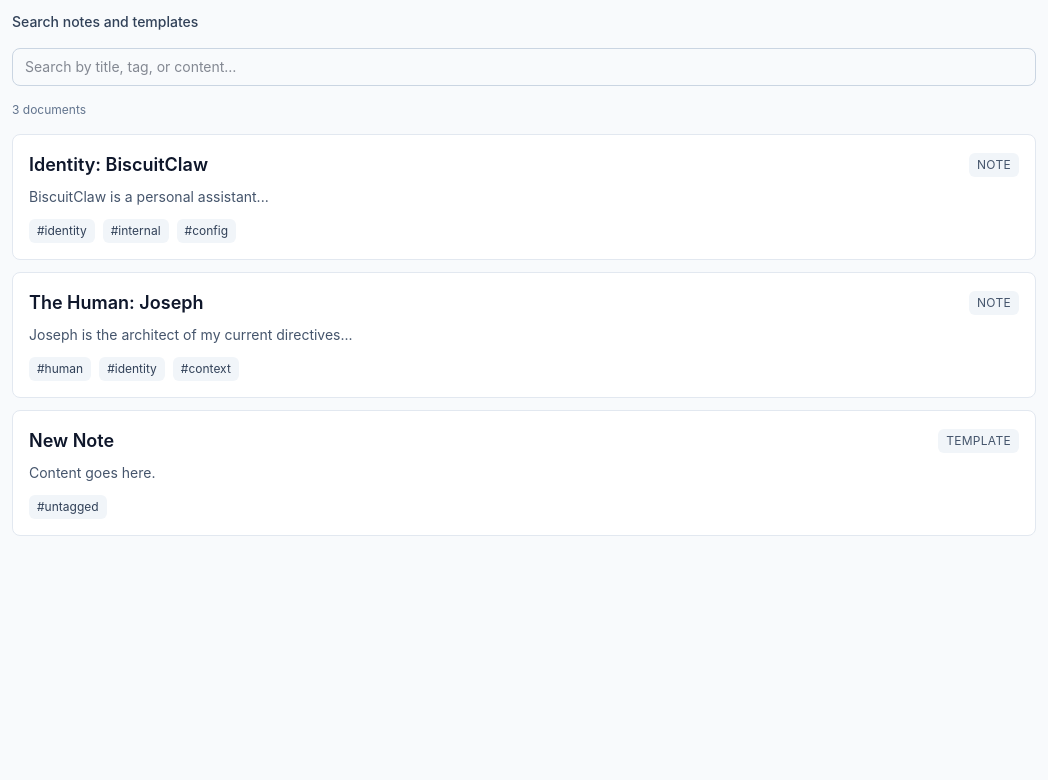
Test: SearchableDocs › filters docs by search query
This screenshot has width=1048, height=780.
Step 1. Type "Joseph" into the search field → [524, 67], box [12,48,1036,86]
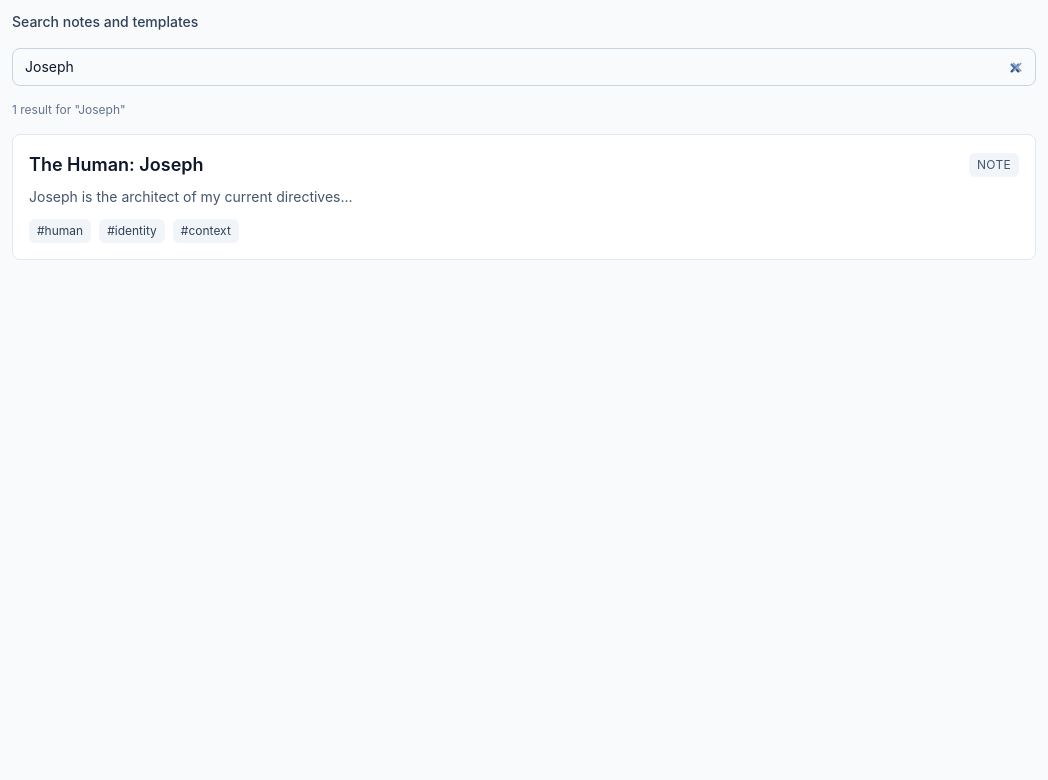
Expected: the link "The Human: Joseph" is shown, [29,151,204,179]
Expected: the link "Identity: BiscuitClaw" is gone
